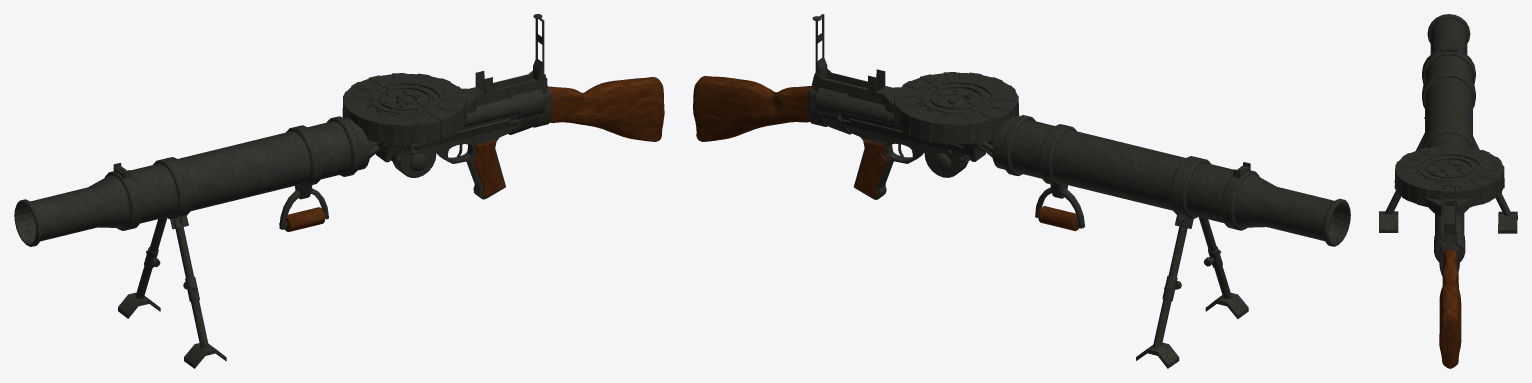
Rendered from lewis-gun.glb.
The picture shows the model from 3 angles, left to right: view 1: azimuth 30°, elevation 25°; view 2: azimuth 150°, elevation 25°; view 3: azimuth 270°, elevation 25°; orthographic projection. The views are drawn at different scales.
Visible parts, largest first — view 1: polySurface58, polySurface61, polySurface68, polySurface62, pCylinder50, polySurface59, polySurface72, pCylinder51, polySurface60, polySurface73, polySurface70, polySurface83 (+1 smaller); view 2: polySurface58, polySurface61, polySurface68, polySurface62, polySurface59, pCylinder51, polySurface72, pCylinder50, polySurface60, polySurface73, polySurface70, polySurface83 (+1 smaller); view 3: polySurface58, polySurface61, polySurface68, polySurface62, pCylinder50, pCylinder51, polySurface70, polySurface64, polySurface60, polySurface69, polySurface86, polySurface87.
Boxes of the visible parts, <box> form: polySurface58: <box>14,116,379,246</box>; polySurface61: <box>342,73,466,145</box>; polySurface68: <box>548,77,664,141</box>; polySurface62: <box>461,70,547,114</box>; pCylinder50: <box>173,219,226,368</box>; polySurface59: <box>375,113,520,163</box>; polySurface72: <box>466,138,505,199</box>; pCylinder51: <box>118,217,166,318</box>; polySurface60: <box>377,97,521,151</box>; polySurface73: <box>435,129,511,163</box>; polySurface70: <box>512,89,545,118</box>; polySurface83: <box>285,207,325,231</box>; polySurface58: <box>982,115,1350,246</box>; polySurface61: <box>893,72,1019,144</box>; polySurface68: <box>693,76,811,141</box>; polySurface62: <box>813,69,900,112</box>; polySurface59: <box>839,112,985,163</box>; pCylinder51: <box>1136,226,1187,368</box>; polySurface72: <box>853,138,893,199</box>; pCylinder50: <box>1198,217,1248,318</box>; polySurface60: <box>838,96,984,150</box>; polySurface73: <box>848,128,925,163</box>; polySurface70: <box>814,87,847,117</box>; polySurface83: <box>1038,206,1078,230</box>; polySurface58: <box>1422,14,1475,148</box>; polySurface61: <box>1394,145,1504,207</box>; polySurface68: <box>1439,249,1461,368</box>; polySurface62: <box>1426,196,1472,248</box>; pCylinder50: <box>1379,133,1424,232</box>; pCylinder51: <box>1473,136,1517,233</box>; polySurface70: <box>1434,229,1465,261</box>; polySurface64: <box>1443,184,1455,237</box>; polySurface60: <box>1435,213,1464,234</box>; polySurface69: <box>1439,245,1459,276</box>; polySurface86: <box>1439,44,1458,52</box>; polySurface87: <box>1446,235,1454,250</box>.
Size of the model in its own units: 41.05 by 14.07 by 8.78.
Materials: 3 (3 with a texture image).
